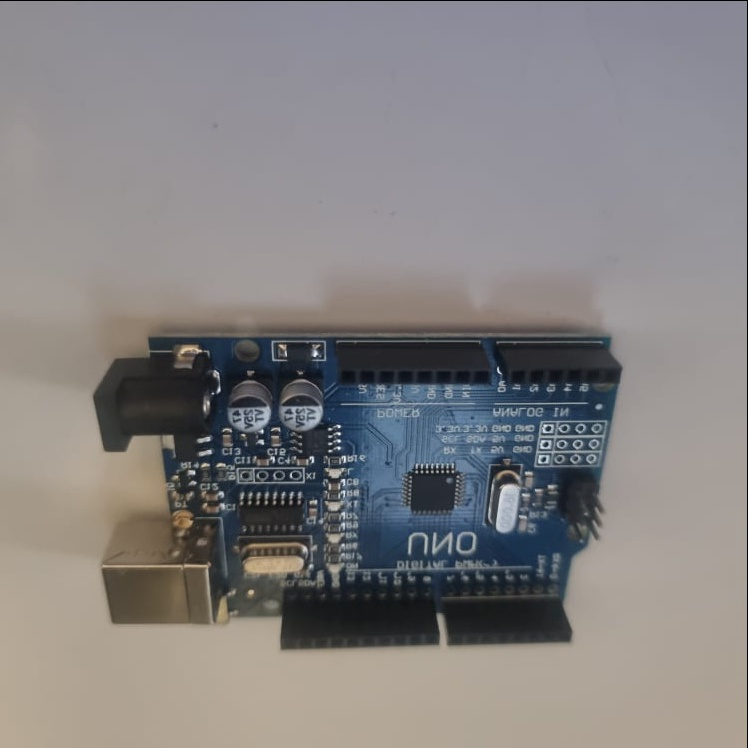UNO R3: (100, 331, 627, 652)
